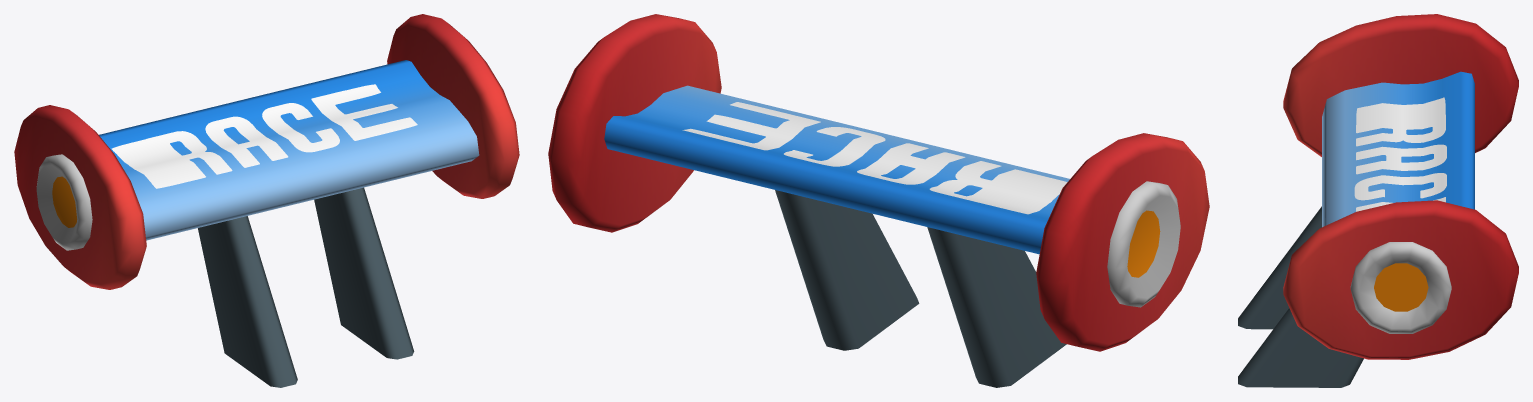
File: Car_02_Spoiler.fbx
3 views of the same model, side by side, from view 1: azimuth 30°, elevation 25°; view 2: azimuth 150°, elevation 25°; view 3: azimuth 270°, elevation 25° (orthographic). The views are drawn at different scales.
Visible parts, largest first — view 1: Car_02_Spoiler; view 2: Car_02_Spoiler; view 3: Car_02_Spoiler.
Boxes of the visible parts, bbox=[...] form: Car_02_Spoiler: bbox=[14, 14, 519, 387]; Car_02_Spoiler: bbox=[548, 14, 1209, 387]; Car_02_Spoiler: bbox=[1238, 14, 1518, 387].
Size of the model in its own units: 176 by 99.26 by 94.37.
